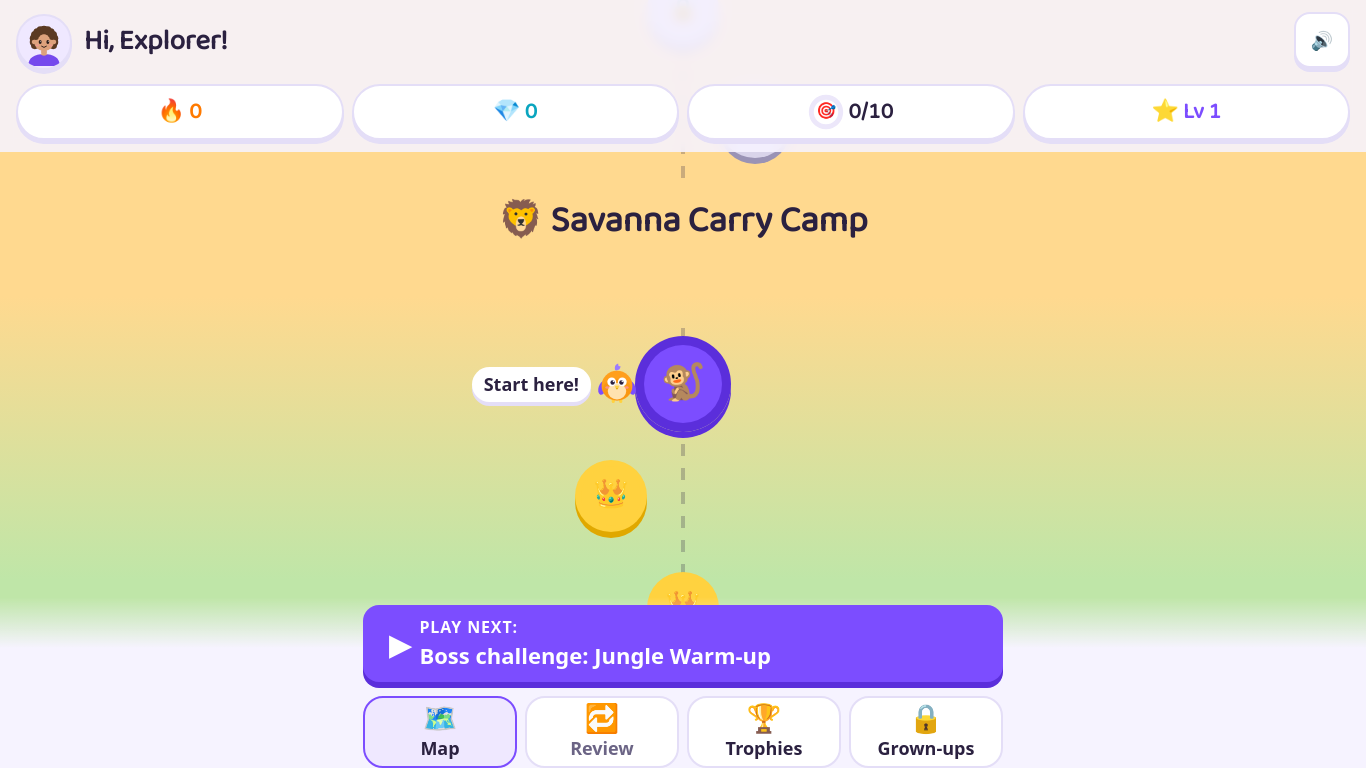
Test case: boss challenge (AC3 via UI) › when every jungle skill is earned, the boss is next and plays as a boss lesson
(page scrolled)
Click the button "Play next: Boss challenge: Jungle Warm-up" at [683, 644], box [363,605,1003,682]
(page scrolled)
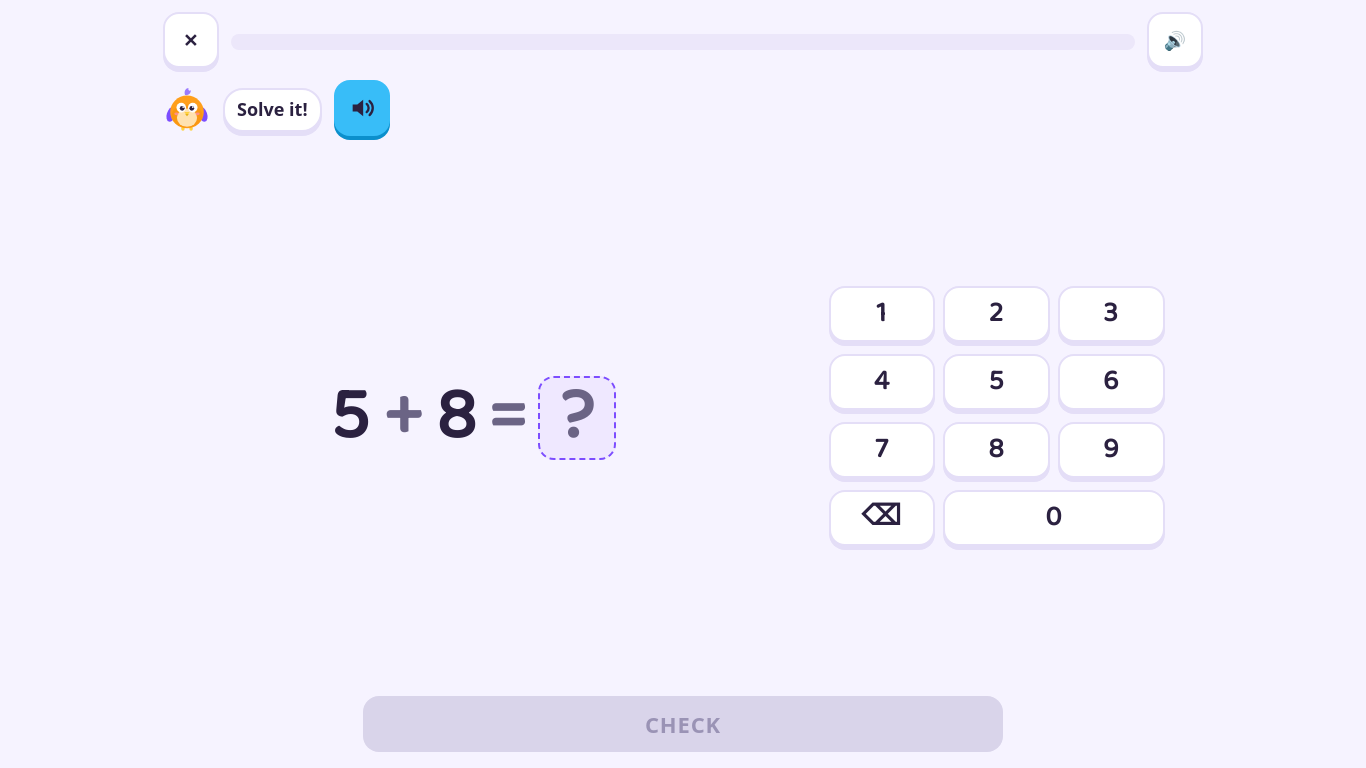
Expected: the button "Check" is shown, [363,696,1003,752]
